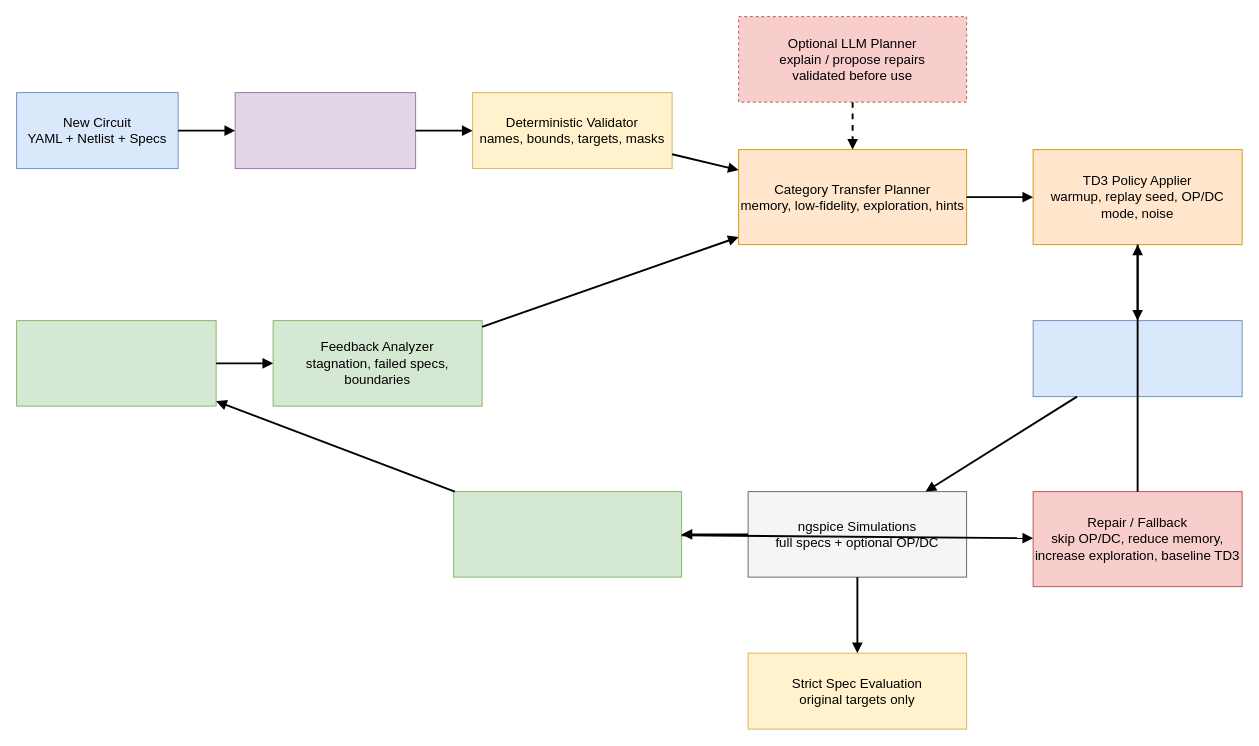
The diagram is 1259 pixels wide and 746 high, and some of its shapes have lost their labels. Here are the shapes that lost their labels. From the top down, the box of each, then its label:
(234, 92, 416, 169): Circuit Adapter roles, action groups, evidence
(16, 320, 216, 406): Category Memory traces + feedback + best candidates
(1032, 320, 1242, 397): TD3 RL Sizer numerical optimizer
(453, 491, 682, 577): Trace Collector reward history, top candidates, failed specs
